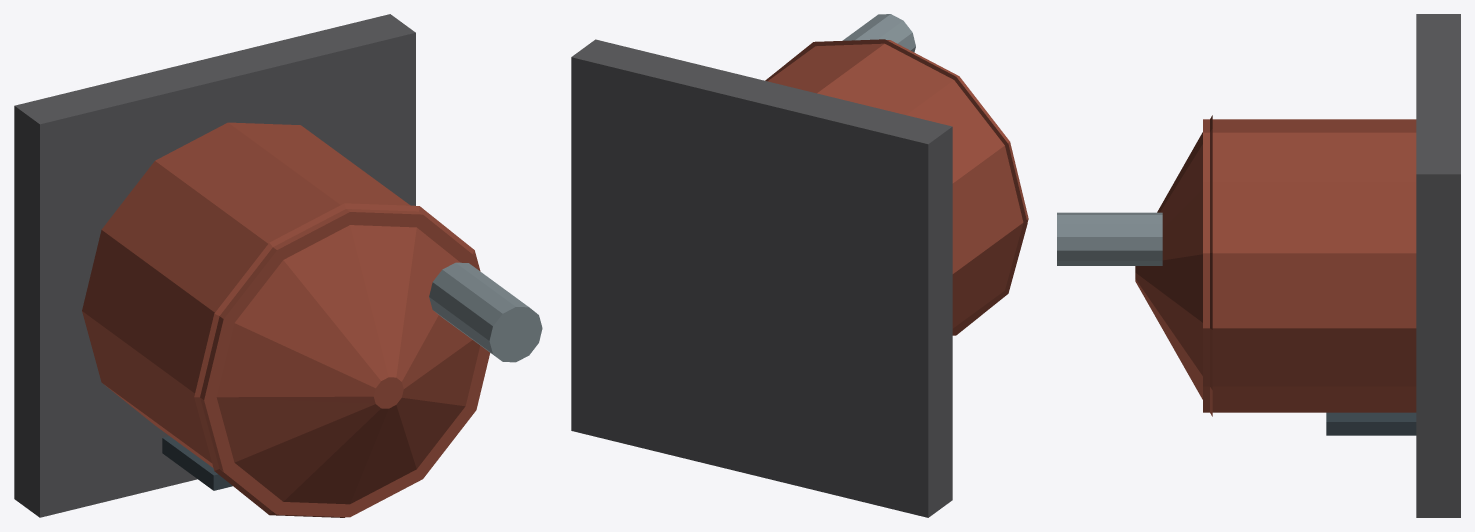
The model's file is pit-kiln.obj.
3 renders of one model, left to right at view 1: azimuth 30°, elevation 25°; view 2: azimuth 150°, elevation 25°; view 3: azimuth 270°, elevation 25°, orthographic. The views are drawn at different scales.
Visible parts, largest first — view 1: pit-kiln_foundation, pit-kiln_kiln_brickwork, pit-kiln_domed_cap, pit-kiln_smoke_pipe, pit-kiln_kiln_mouth; view 2: pit-kiln_foundation, pit-kiln_kiln_brickwork, pit-kiln_domed_cap, pit-kiln_smoke_pipe; view 3: pit-kiln_kiln_brickwork, pit-kiln_foundation, pit-kiln_domed_cap, pit-kiln_smoke_pipe, pit-kiln_kiln_mouth.
Part boxes in pixels (left/top/right/bottom): pit-kiln_foundation: left=14, top=14, right=415, bottom=517; pit-kiln_kiln_brickwork: left=82, top=122, right=489, bottom=517; pit-kiln_domed_cap: left=194, top=203, right=480, bottom=517; pit-kiln_smoke_pipe: left=429, top=262, right=542, bottom=362; pit-kiln_kiln_mouth: left=162, top=436, right=232, bottom=490; pit-kiln_foundation: left=571, top=39, right=952, bottom=517; pit-kiln_kiln_brickwork: left=768, top=40, right=1028, bottom=331; pit-kiln_domed_cap: left=765, top=39, right=1027, bottom=335; pit-kiln_smoke_pipe: left=842, top=14, right=915, bottom=52; pit-kiln_kiln_brickwork: left=1203, top=119, right=1416, bottom=412; pit-kiln_foundation: left=1416, top=14, right=1460, bottom=517; pit-kiln_domed_cap: left=1135, top=115, right=1212, bottom=416; pit-kiln_smoke_pipe: left=1057, top=212, right=1162, bottom=265; pit-kiln_kiln_mouth: left=1326, top=412, right=1416, bottom=435.
Bounding box in the file's own units: 2.55 × 2.55 × 2.71.
